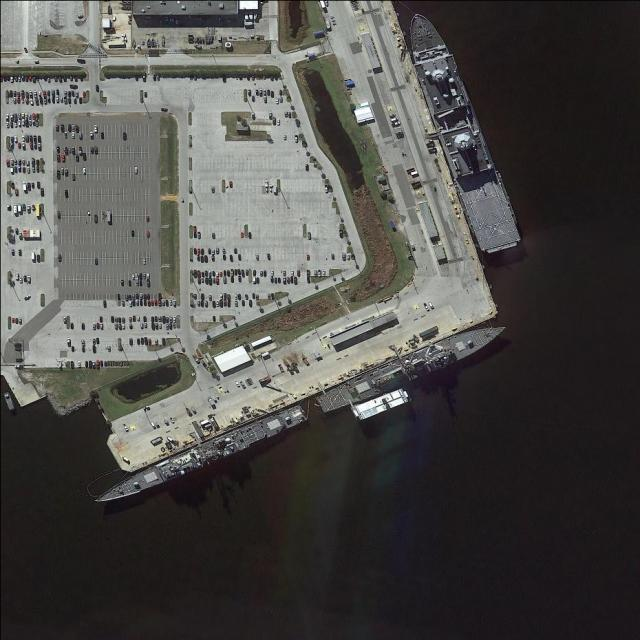Auxiliary Ships: (398, 3, 522, 261)
Cruiser: (92, 405, 306, 509)
Destroyer: (315, 317, 509, 415)
